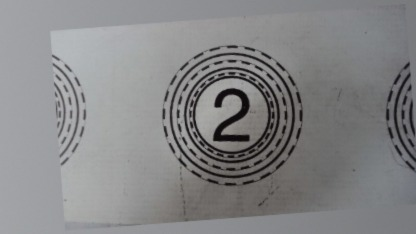2r: (155, 37, 308, 192)
